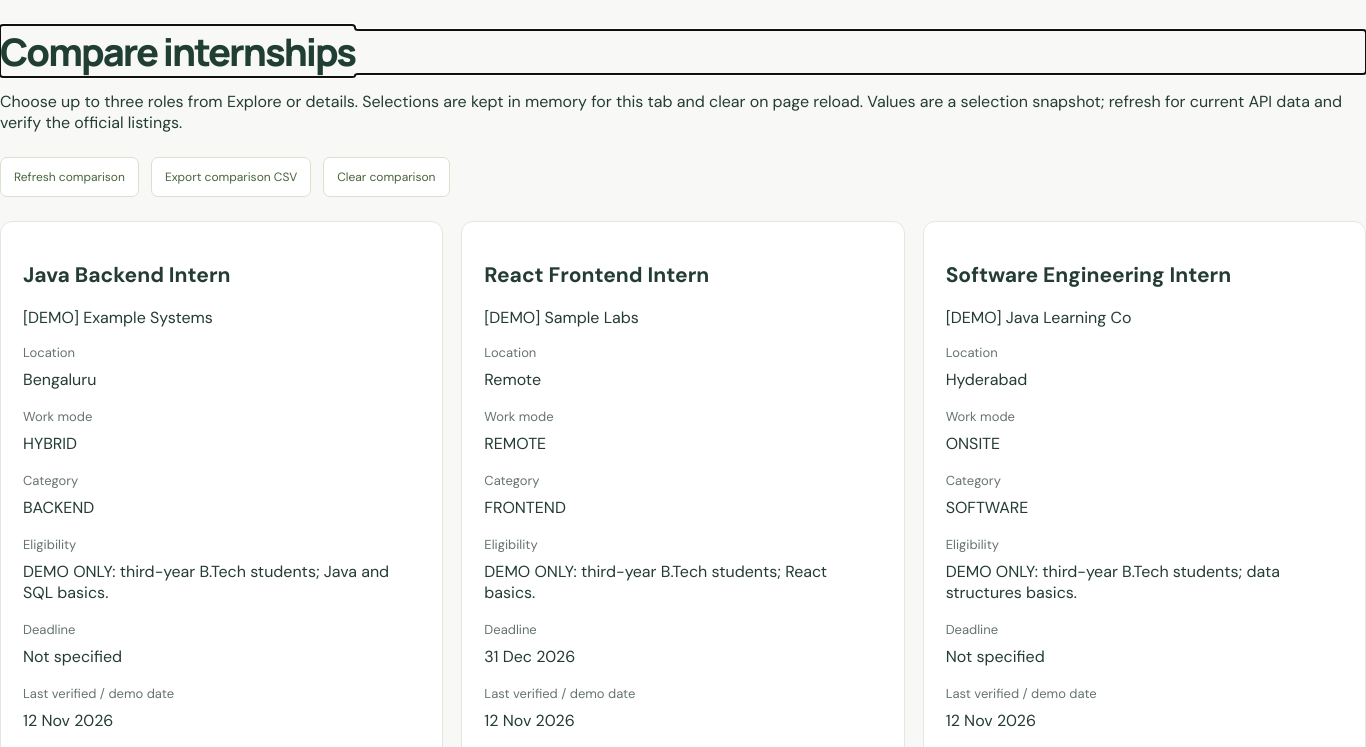
Test: comparison view › refreshes each selected ID and replaces snapshots with fresh API data
Step 1. Click the button "Refresh comparison" → [69, 177], box x1=0 y1=157 x2=139 y2=197
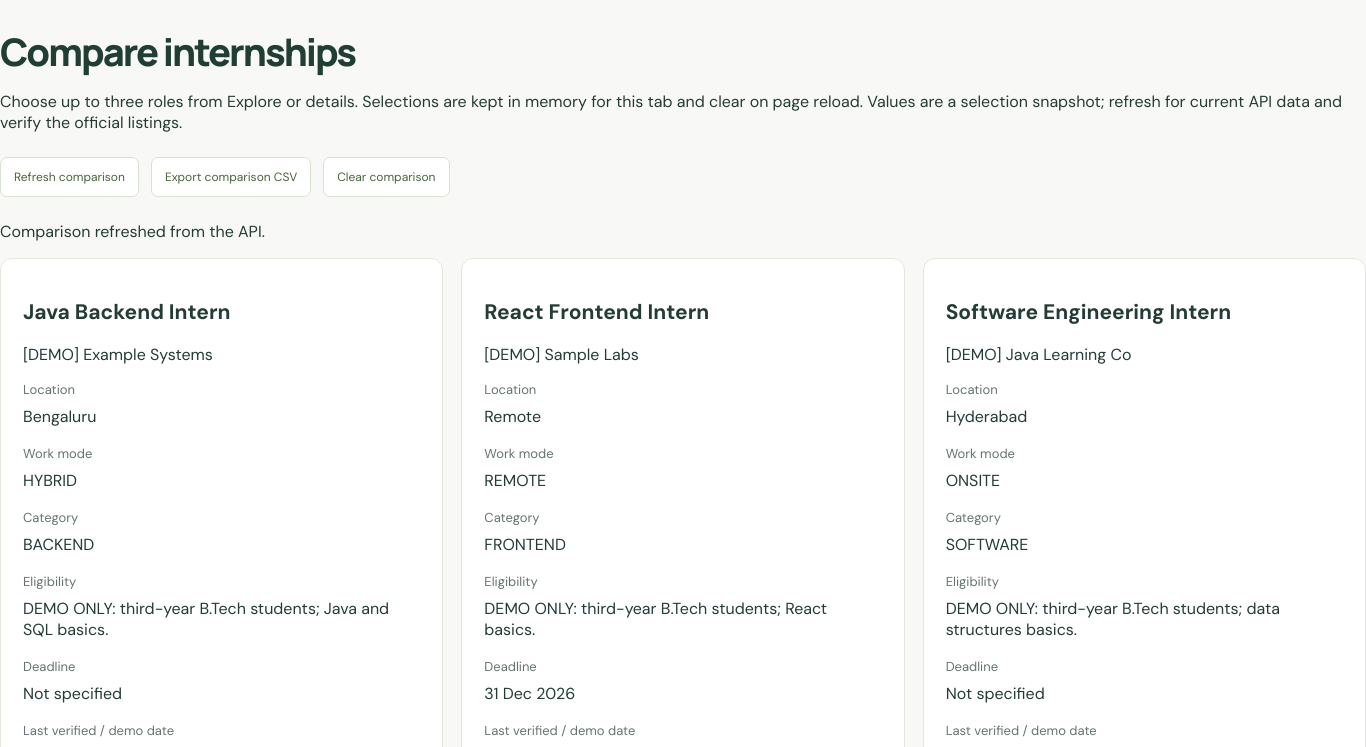
Now the text "Comparison refreshed from the API." is shown, box x1=0 y1=221 x2=265 y2=242
